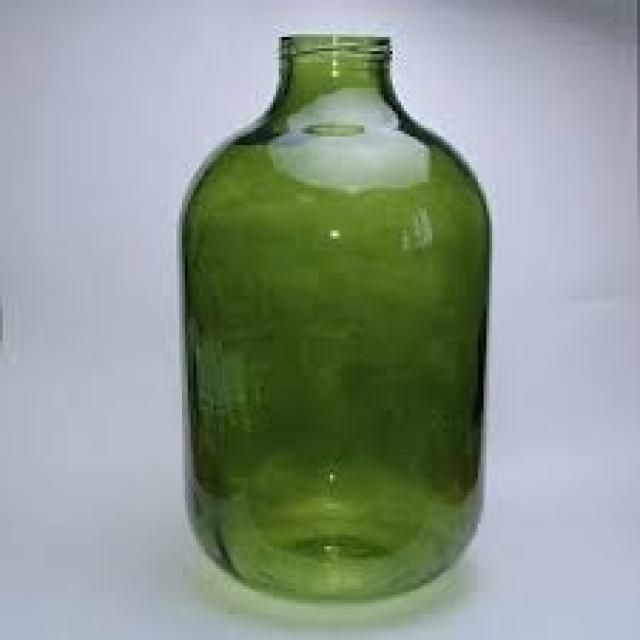glass: (176, 34, 492, 597)
